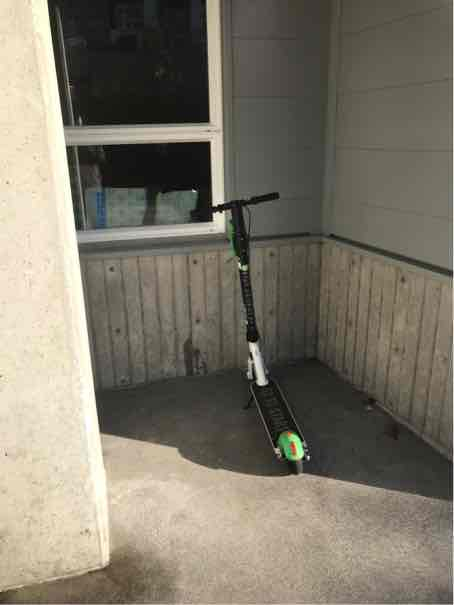scooter: (166, 179, 327, 488)
